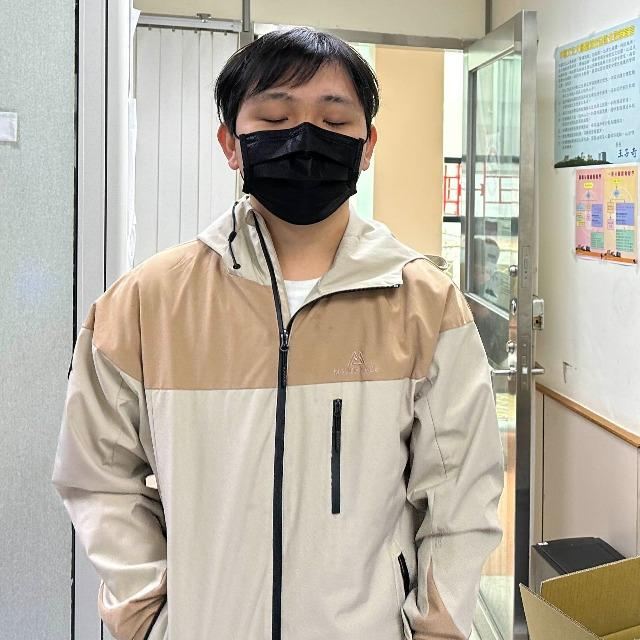NoHelmet: (213, 26, 380, 225)
NoVest: (110, 224, 474, 640)
